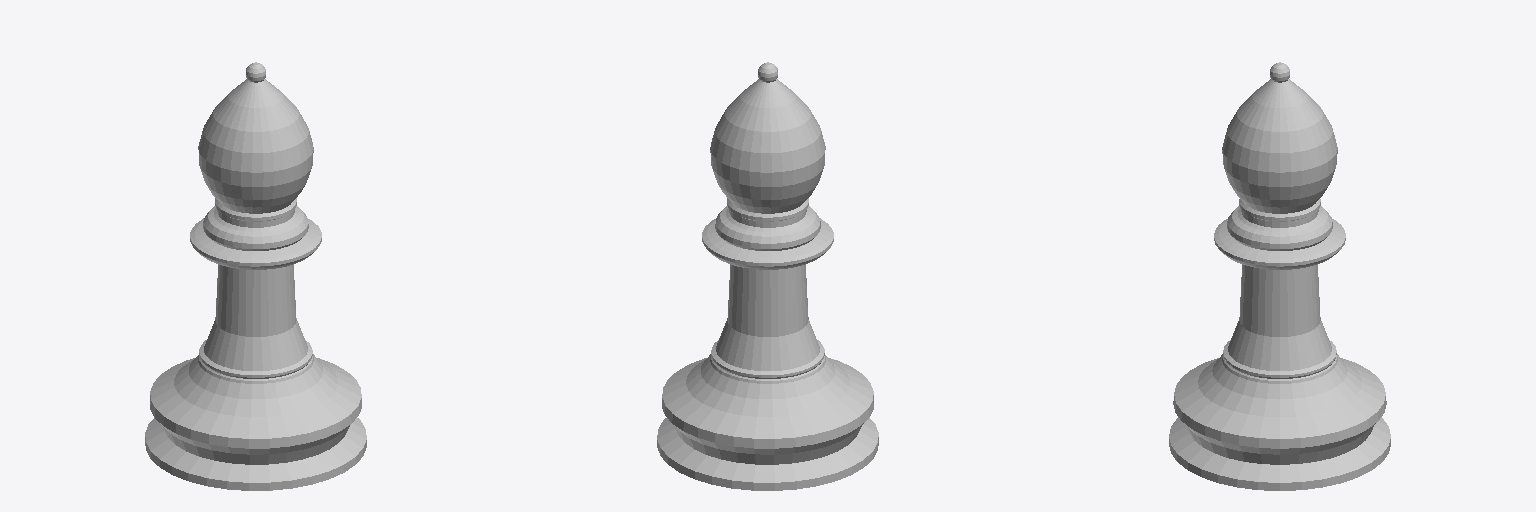
Rendered from goniec.obj.
3 views of the same model, side by side, from view 1: azimuth 30°, elevation 25°; view 2: azimuth 150°, elevation 25°; view 3: azimuth 270°, elevation 25° (orthographic).
Parts seen in each view (by area): view 1: Circle_Circle.001; view 2: Circle_Circle.001; view 3: Circle_Circle.001.
Boxes of the visible parts, x1,y1,x2,y2 form: Circle_Circle.001: [145, 62, 366, 490]; Circle_Circle.001: [657, 62, 878, 490]; Circle_Circle.001: [1169, 62, 1390, 490].
Size of the model in its own units: 1.47 by 2.81 by 1.47.